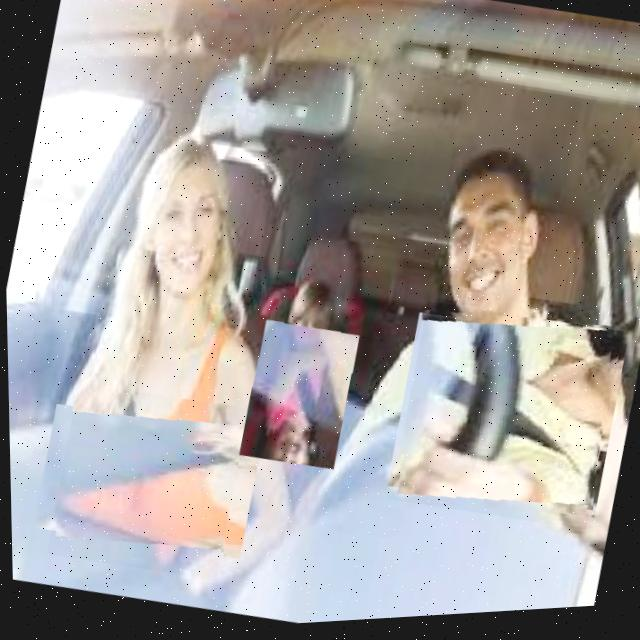seatbelt: (384, 297, 624, 545), (41, 375, 249, 590), (234, 318, 359, 477)
